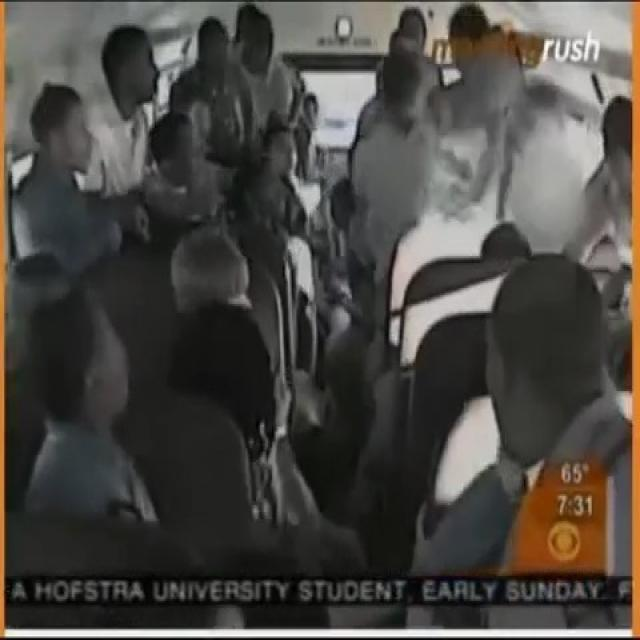fight: (324, 0, 559, 308)
